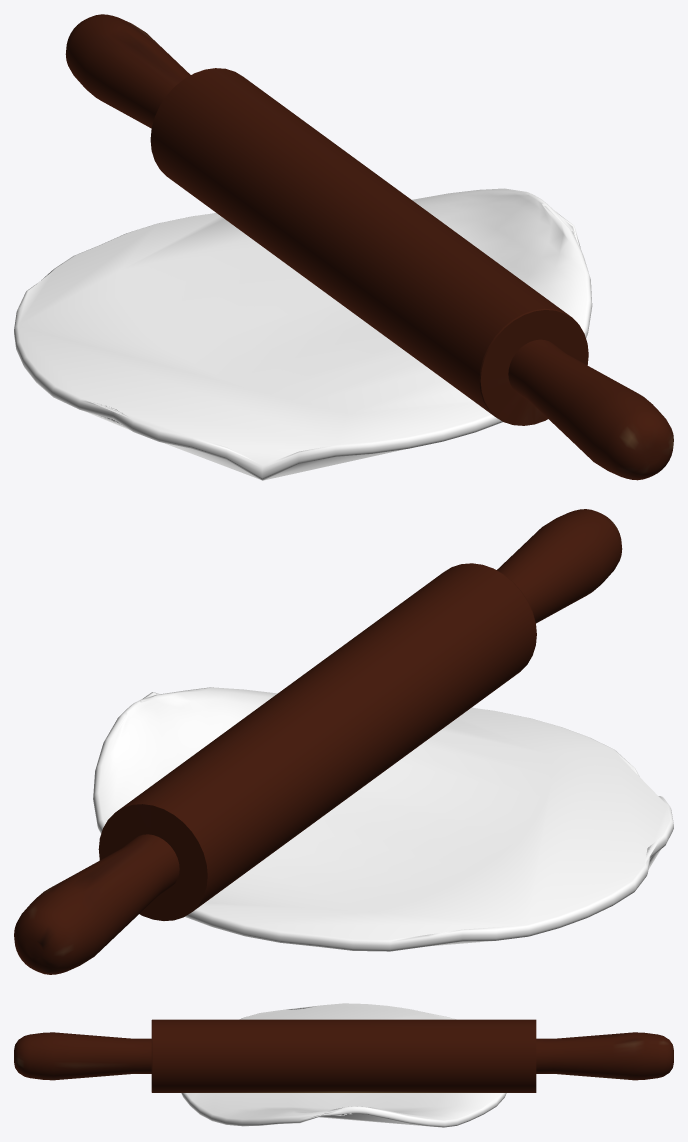
Rendered from Rollingpin.glb.
3 views of the same model, one above another, from view 1: azimuth 30°, elevation 25°; view 2: azimuth 150°, elevation 25°; view 3: azimuth 270°, elevation 25° (orthographic). The views are drawn at different scales.
Visible parts, largest first — view 1: BezierCircle.003, Cylinder.001; view 2: BezierCircle.003, Cylinder.001; view 3: Cylinder.001, BezierCircle.003.
Boxes of the visible parts, <box> form: BezierCircle.003: <box>14,188,592,480</box>; Cylinder.001: <box>65,14,673,480</box>; BezierCircle.003: <box>93,687,673,951</box>; Cylinder.001: <box>14,509,622,974</box>; Cylinder.001: <box>14,1019,673,1092</box>; BezierCircle.003: <box>181,1003,506,1127</box>.
Size of the model in its own units: 3.83 by 1.13 by 7.46.
